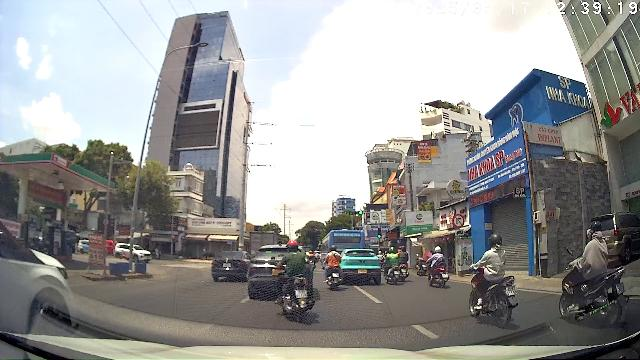123b-cam-re-phai: (452, 214, 465, 228)
